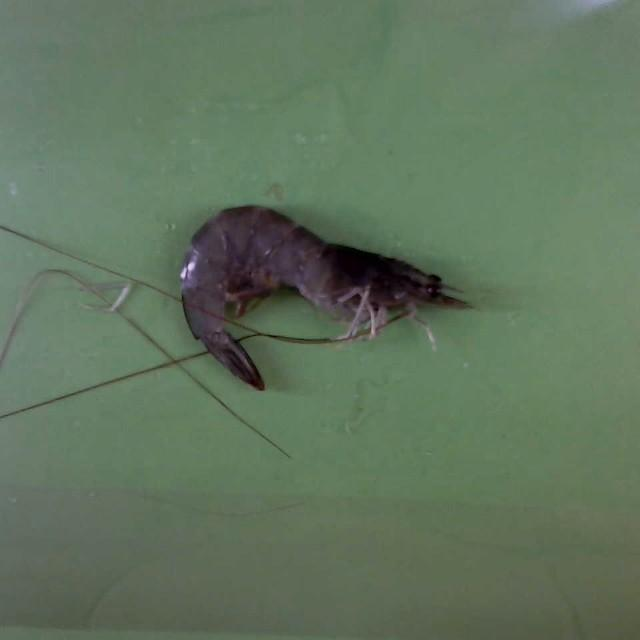shrimp: (181, 206, 467, 390)
